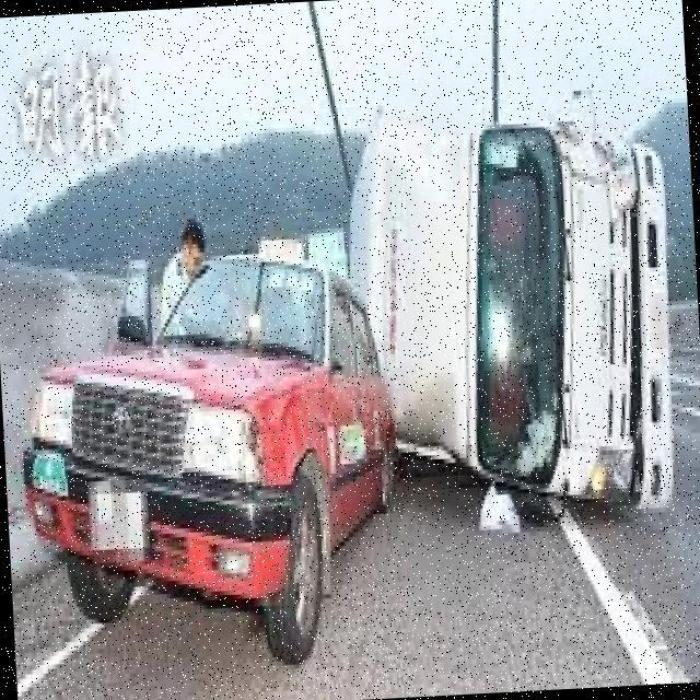Accident: (346, 75, 694, 552)
